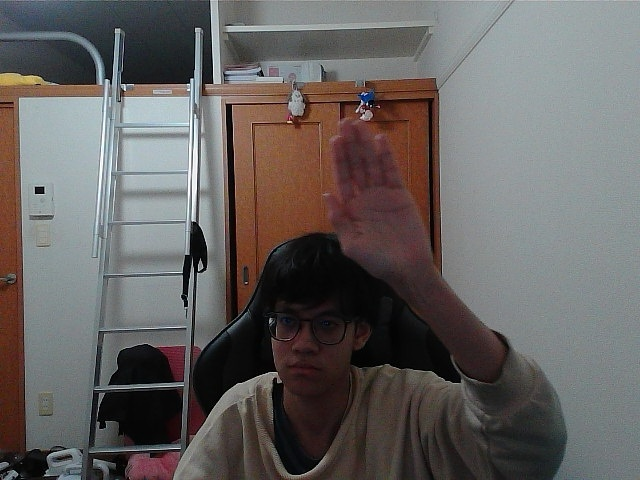open_palm: (334, 128, 406, 269)
